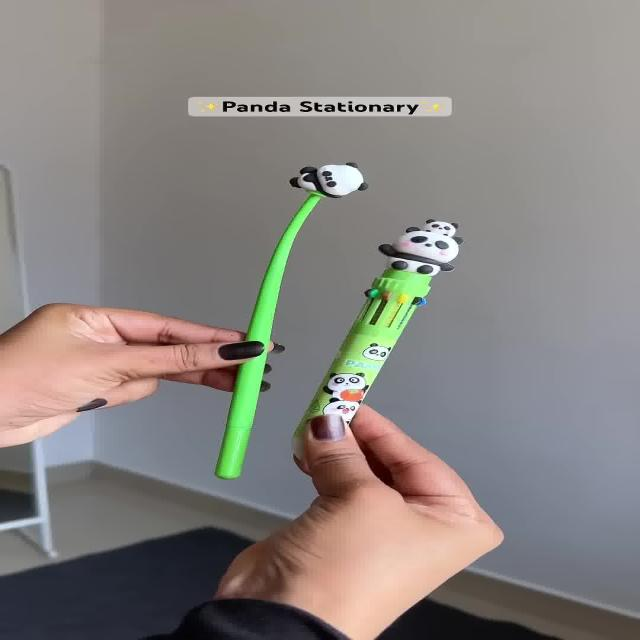pen: (151, 145, 483, 483)
